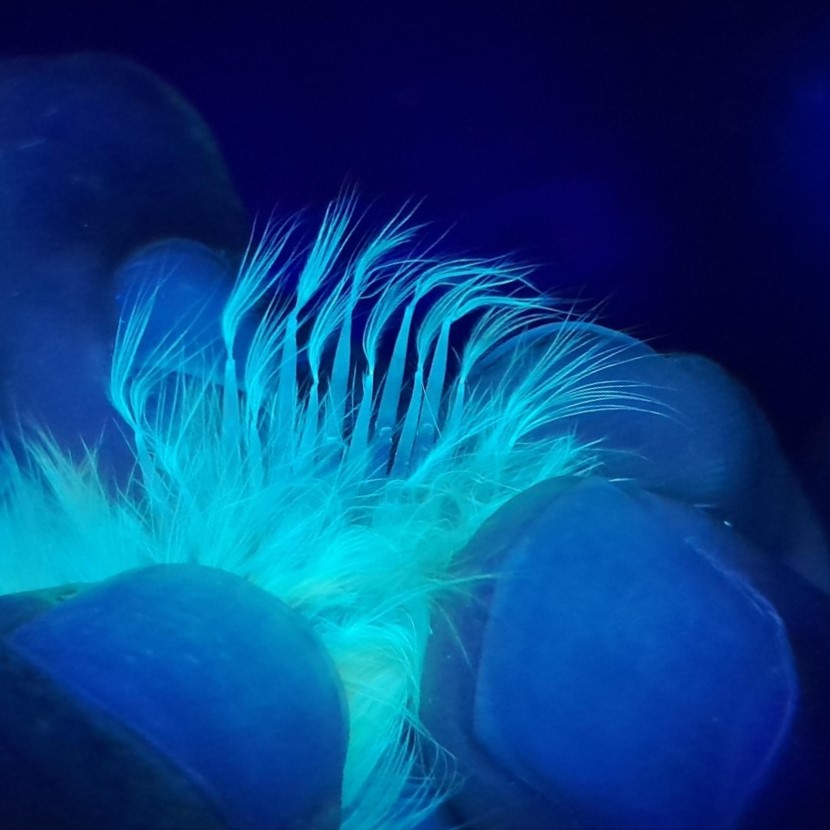female: (202, 293, 483, 595)
